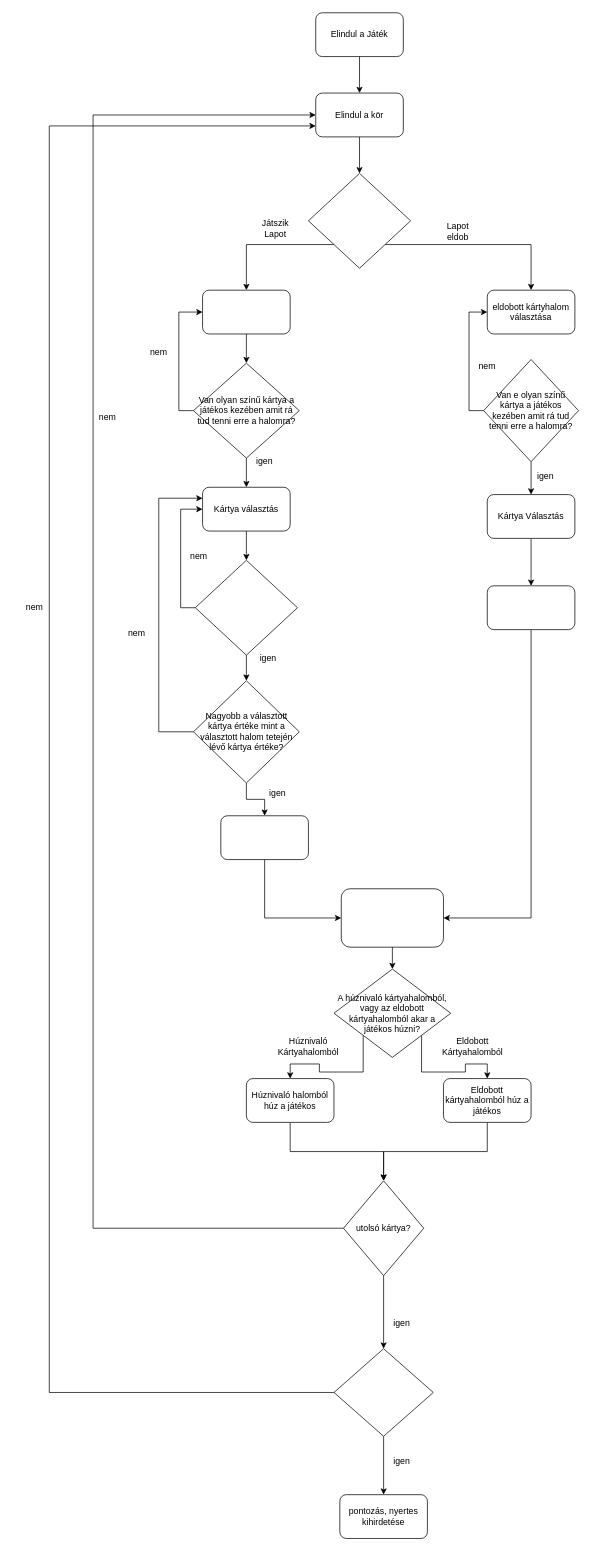
Image size: 591x1551. Some labels were removed from this diagram. The centre of each missing label's shape, as x and y in pixels:
"Kártya elhelyezése a választott kártyahalomra" goes at [264,837].
"Kártya Húzás" goes at [392,917].
"Kártya Kijátszása a választott kártyahalomra" goes at [531,607].
"Kártyahalom kiválasztása" goes at [246,311].
"megegyezik a választott kártya színe a választott halom színével?" goes at [246,607].
"Mit csinál a kör elején a játékos?" goes at [359,220].
"utolsó kör?" goes at [383,1392].
